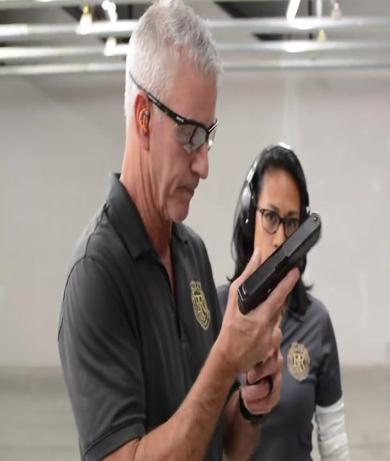pistol: (233, 209, 327, 352)
